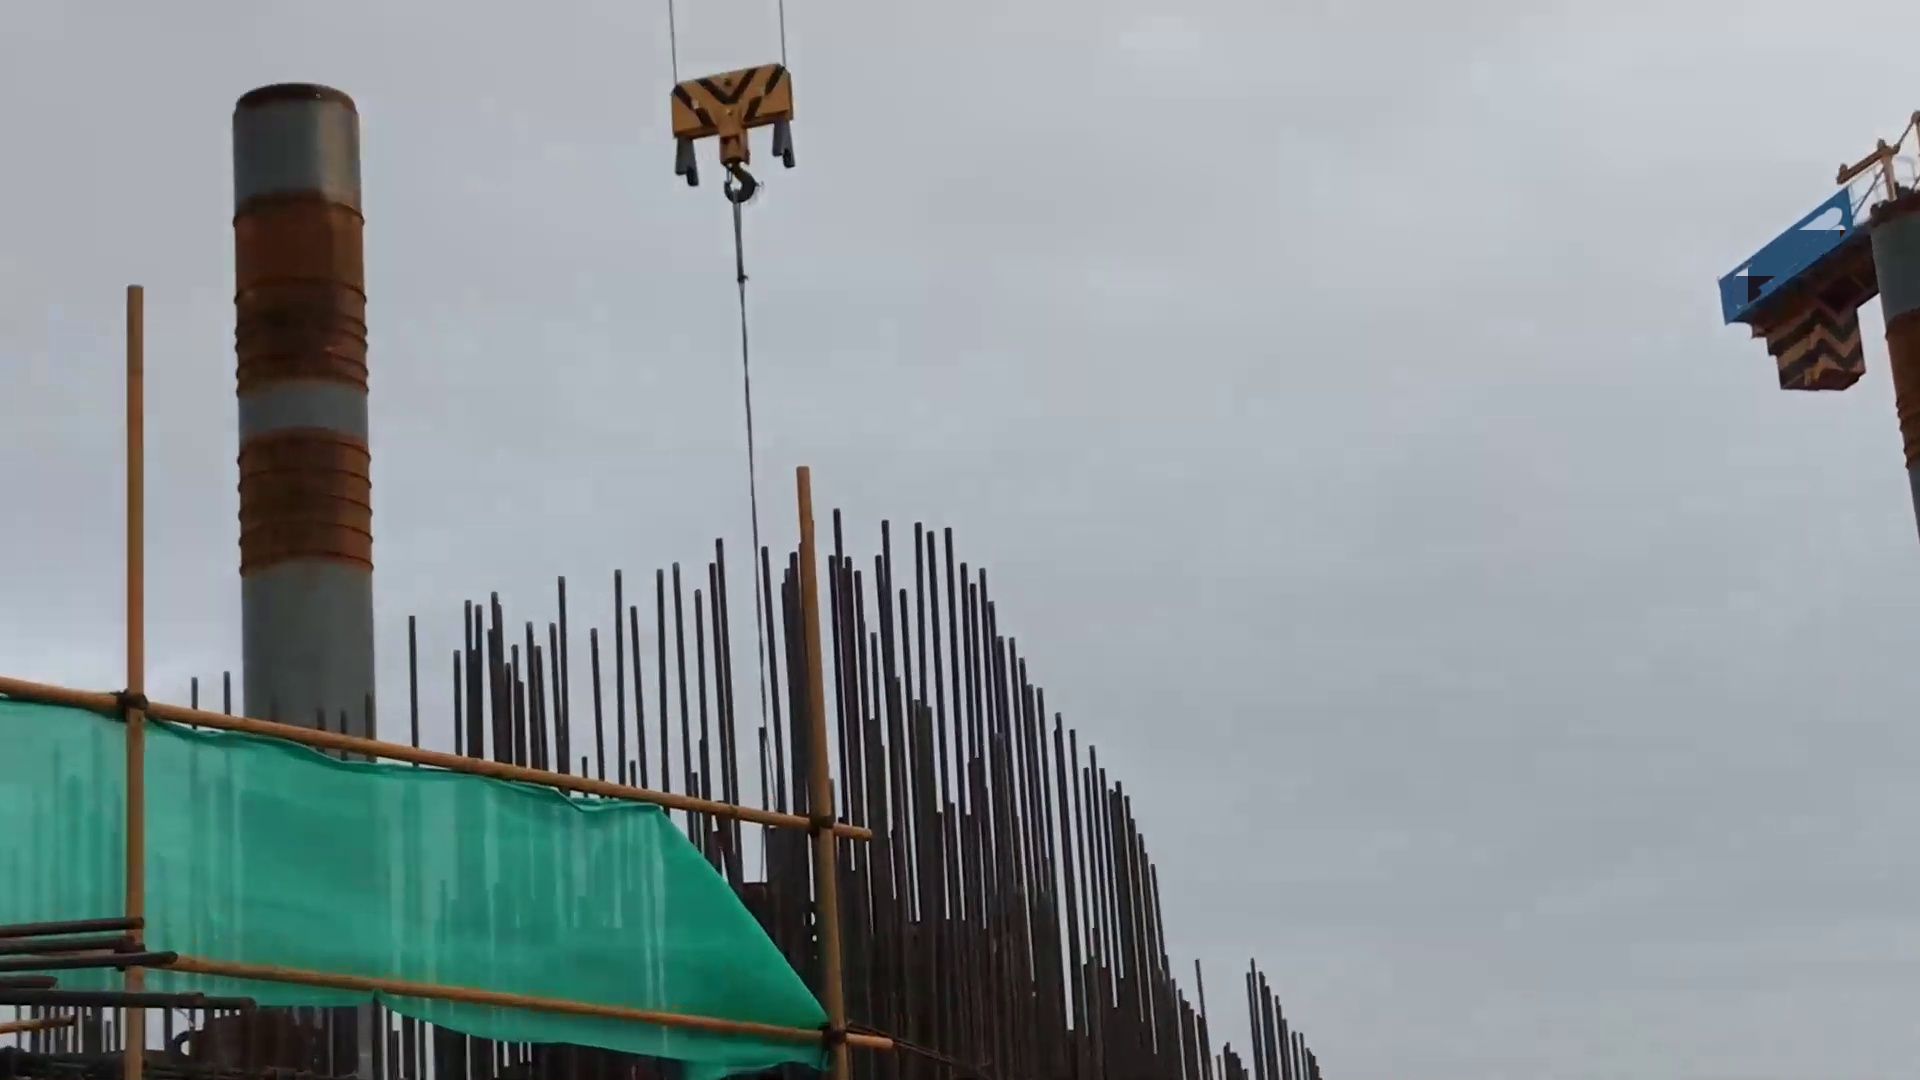hook: (667, 59, 815, 208)
